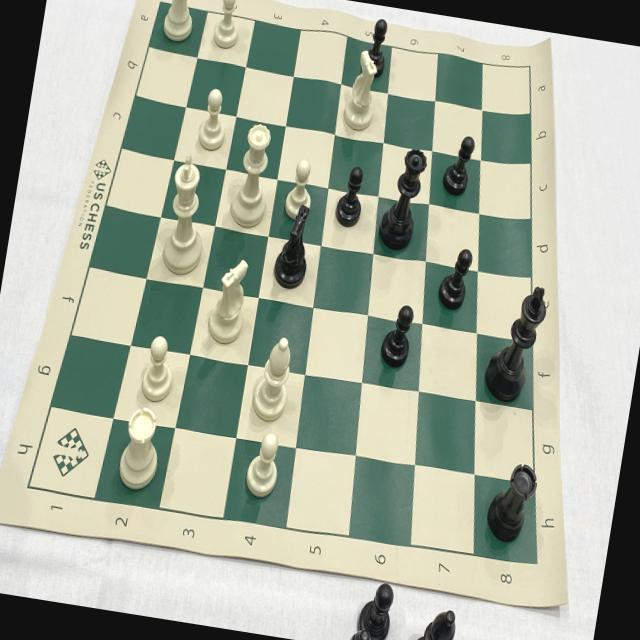black-king: (478, 274, 554, 413)
black-knight: (268, 200, 322, 294)
black-pawn: (374, 297, 420, 372), (433, 242, 478, 315), (438, 130, 480, 204), (330, 162, 371, 232), (362, 13, 394, 78)
black-queen: (374, 141, 432, 257)
black-rook: (480, 446, 544, 552)
white-bishop: (248, 328, 300, 426)
white-king: (153, 147, 220, 278)
white-knight: (204, 249, 258, 347), (339, 46, 386, 136)
white-pawn: (238, 426, 286, 502), (135, 331, 182, 406), (192, 83, 234, 154), (282, 154, 320, 221), (208, 0, 248, 51)
white-queen: (226, 114, 282, 235)
white-rook: (109, 402, 172, 496), (157, 0, 202, 46)
